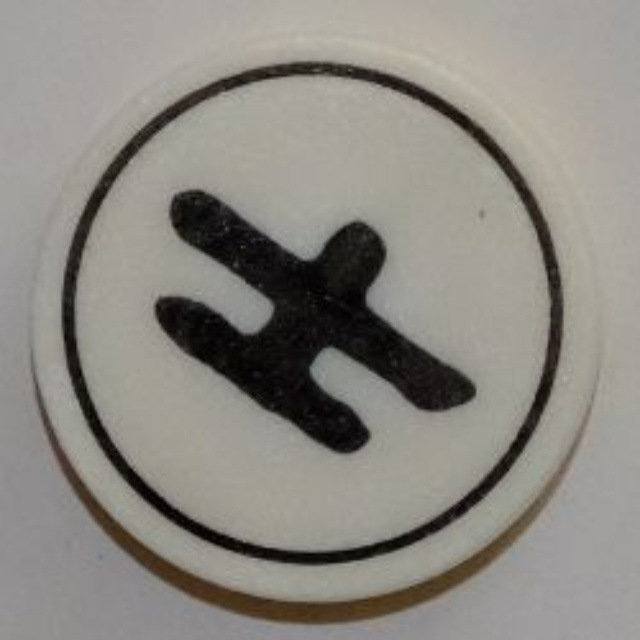black_si: (27, 30, 606, 612)
